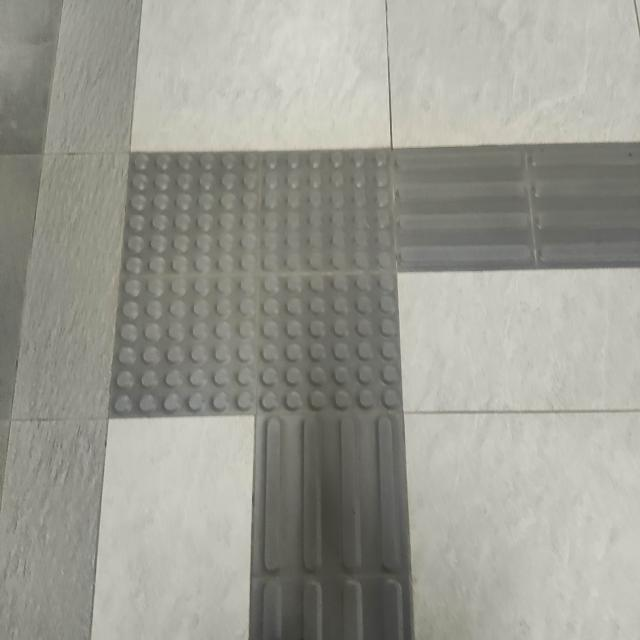kanan: (97, 103, 628, 494)
